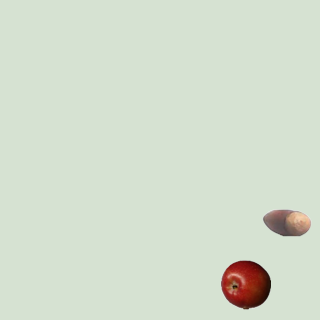Apple Braeburn: (220, 259, 270, 309)
Hazelnut: (261, 197, 311, 247)
